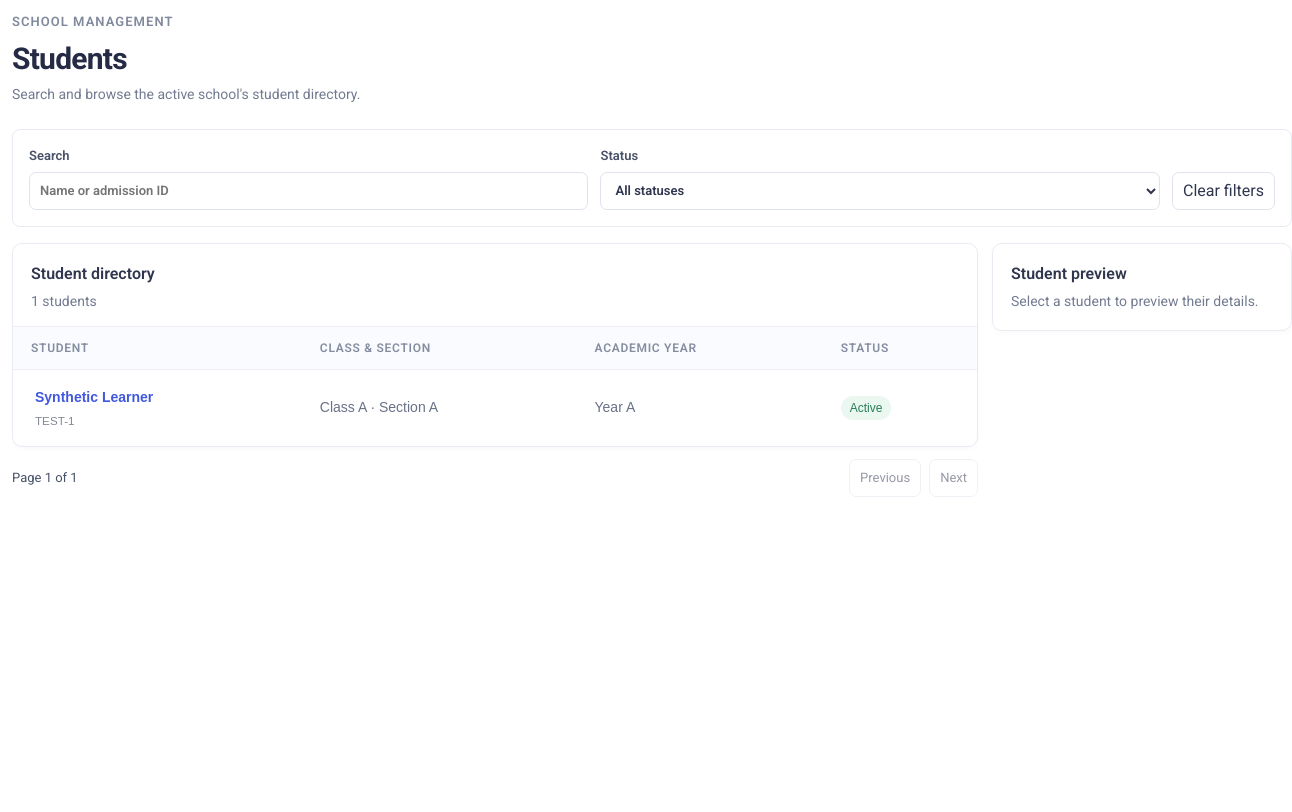
API student directory › searches on the server, selects a preview, and keeps structure controls permission-gated
The image size is (1292, 812).
Click the button "Synthetic Learner TEST-1" at (94, 408), box [31,382,157,433]
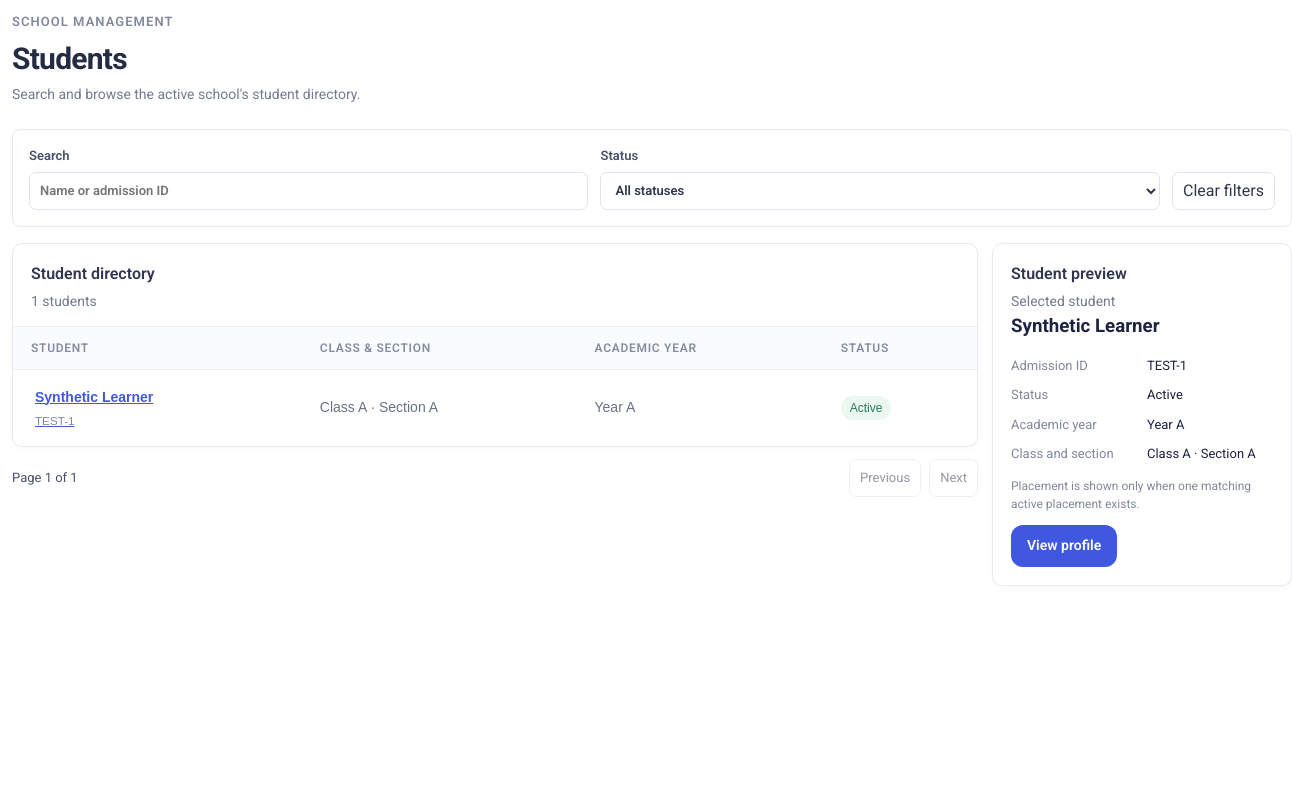
Now the text "TEST-1" next to "Admission ID" is shown, box [1147,358,1187,373]
Type "different learner" into the search field labelled "Search" at (309, 190), box [29,172,588,210]
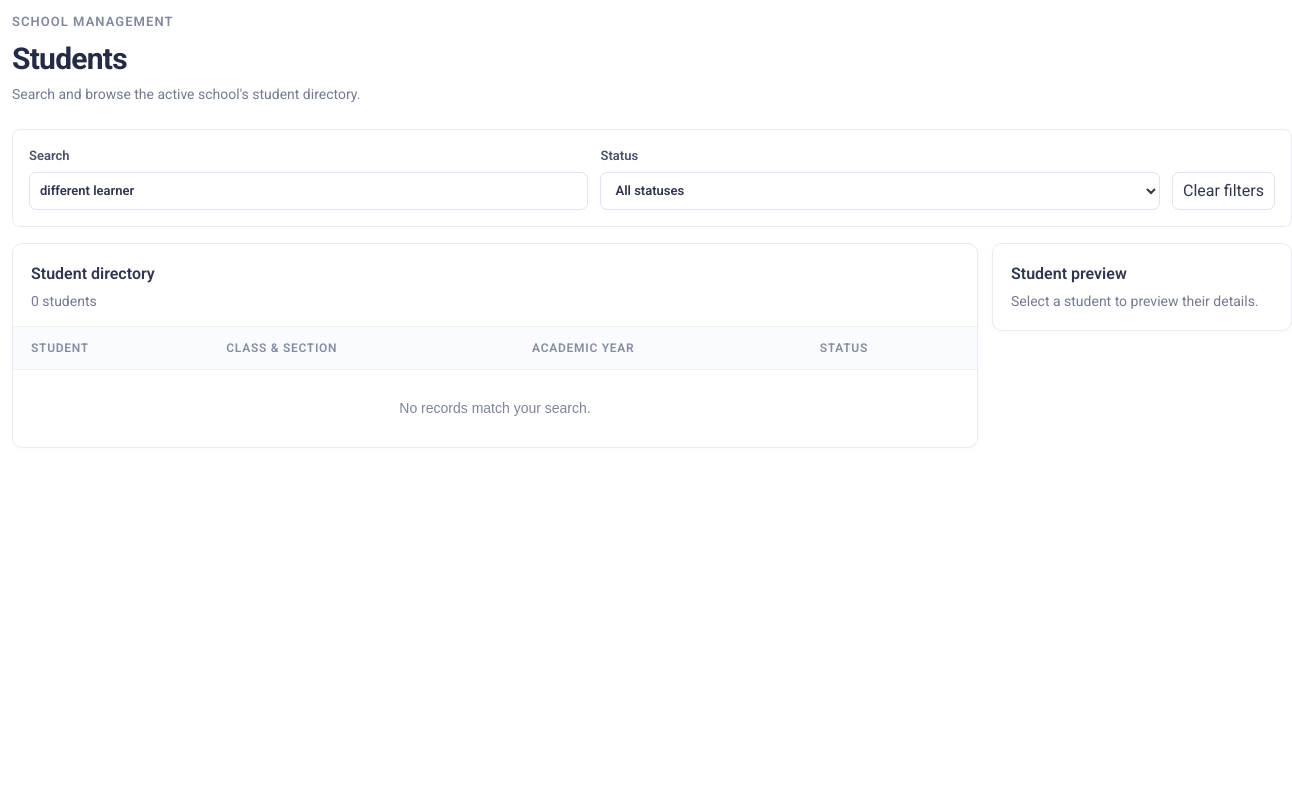
Now the button "TEST-1" is gone
Now the text "No records match your search." is shown, box [13,369,977,446]
